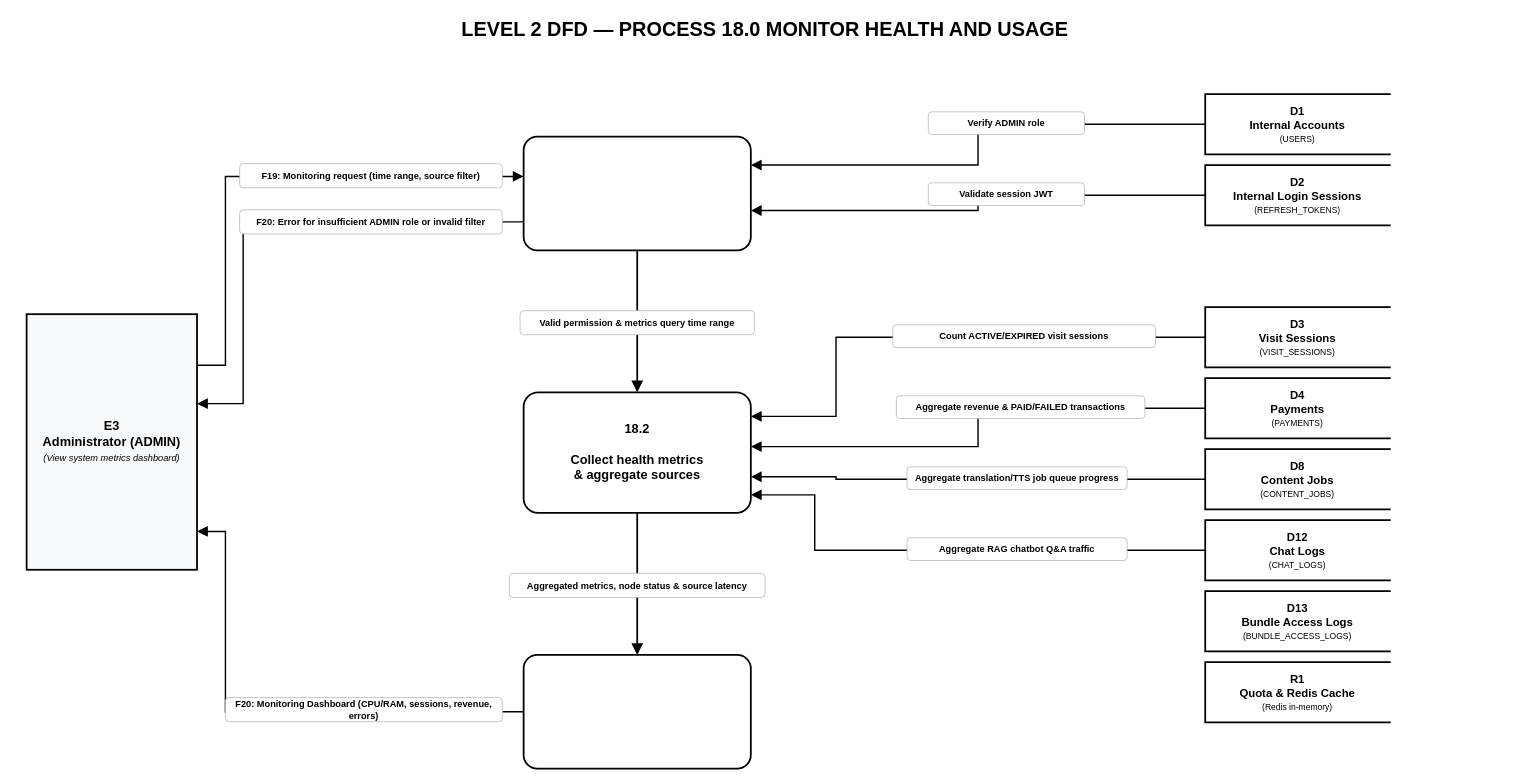
Some shapes in this 1529 by 782 pixel diagram are drawn without their labels. The centre of each missing label's shape, as x and y in pixels:
"18.1 Verify ADMIN role & time range" goes at point 636,193.
"18.3 Render Dashboard, source errors & data freshness" goes at point 636,711.
